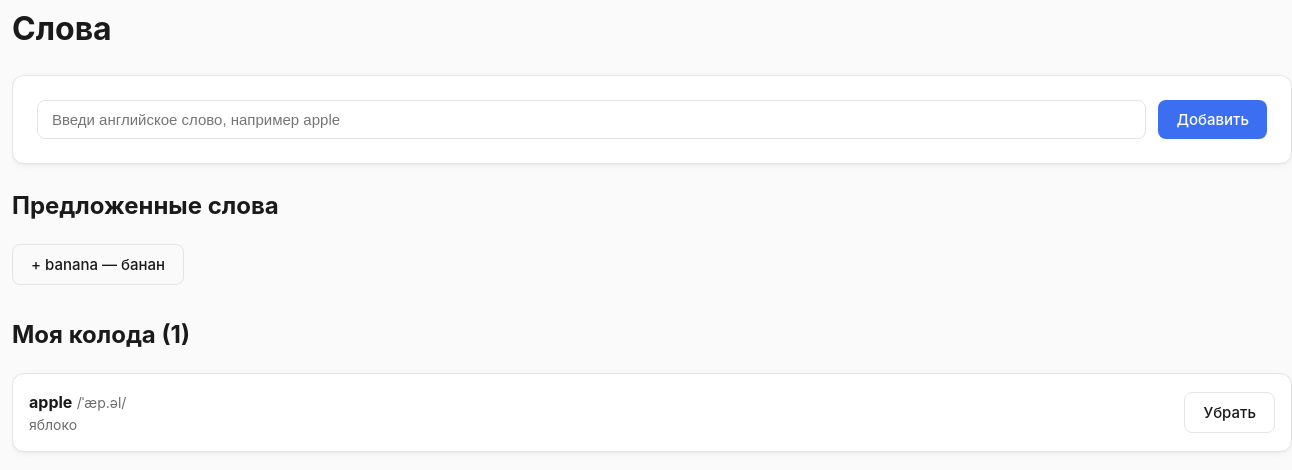
Test case: Words - suggestions › adding a suggestion removes it from suggestions and adds it to the deck
Click the button "+ banana — банан" at (98, 264), box [12,244,184,285]
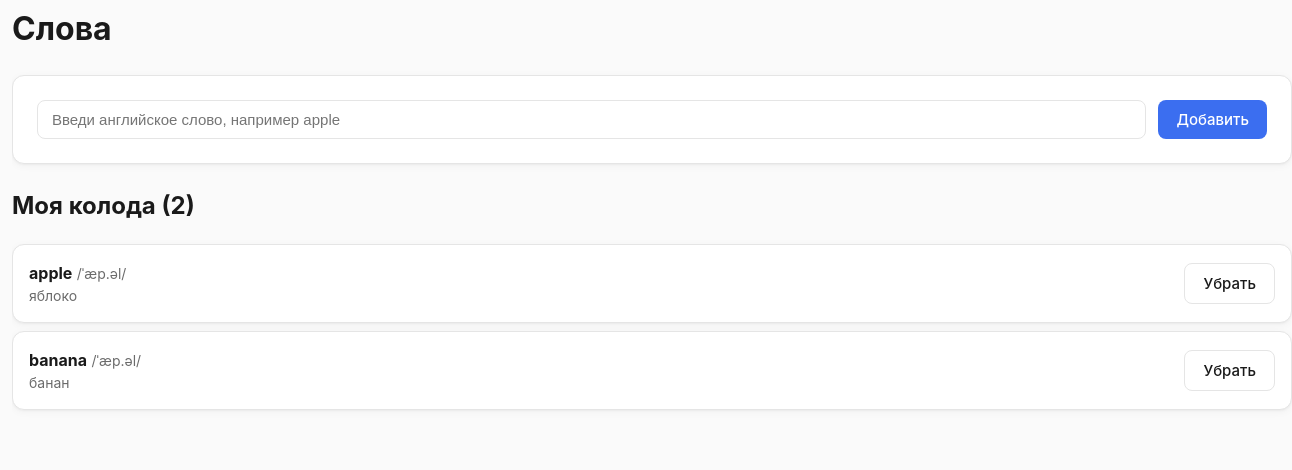
Now the button "+ banana" is gone
Now the heading "Моя колода (2)" is shown, box [12,191,195,220]
